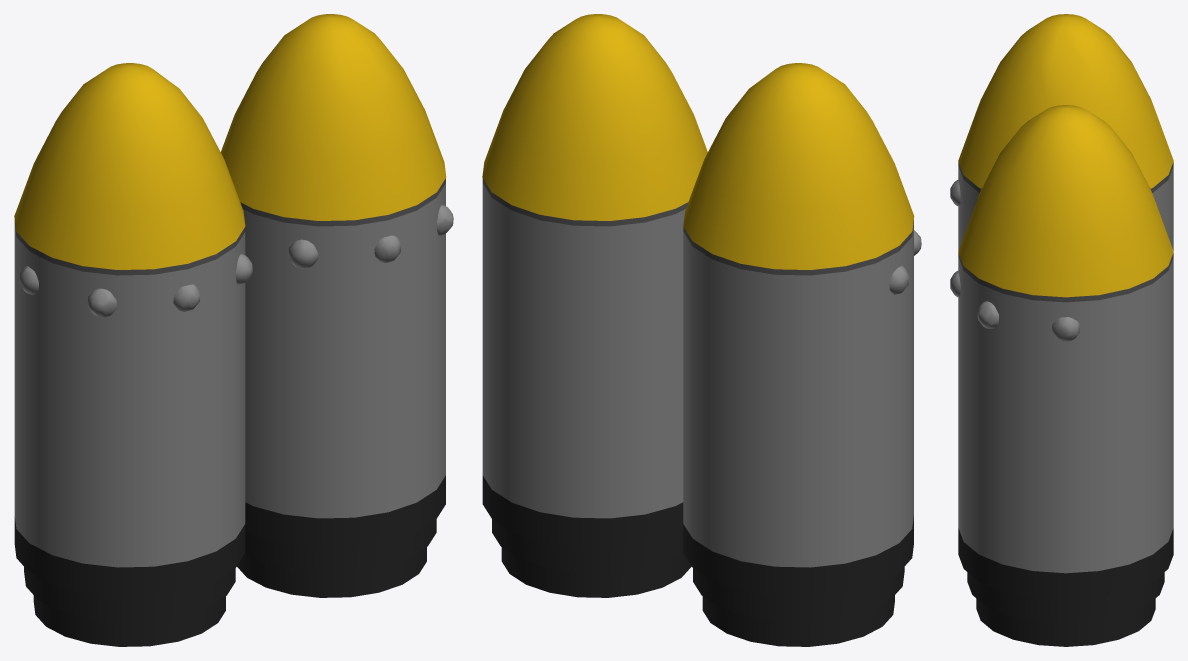
Rendered from jetpack.obj.
The picture shows the model from 3 angles, left to right: view 1: azimuth 30°, elevation 25°; view 2: azimuth 150°, elevation 25°; view 3: azimuth 270°, elevation 25°; orthographic projection. The views are drawn at different scales.
Parts seen in each view (by area): view 1: body2, body3, up1, up2, base3, base7, base2, base6, base1, base5, base4, base8 (+2 smaller); view 2: body2, body3, up1, up2, base3, base7, base2, base6, base1, base5, base4, base8; view 3: body3, up2, up1, base7, base6, base5, body2, base8, pSphere8, pSphere5.
Part boxes in pixels (bbox=[...]): body2: bbox=[14, 224, 245, 567]; body3: bbox=[243, 183, 445, 518]; up1: bbox=[14, 63, 245, 269]; up2: bbox=[220, 14, 446, 220]; base3: bbox=[14, 516, 245, 596]; base7: bbox=[245, 475, 445, 547]; base2: bbox=[24, 567, 235, 621]; base6: bbox=[245, 519, 436, 572]; base1: bbox=[33, 595, 225, 646]; base5: bbox=[237, 547, 426, 597]; base4: bbox=[14, 220, 245, 275]; base8: bbox=[240, 178, 445, 226]; body2: bbox=[683, 224, 913, 567]; body3: bbox=[482, 183, 685, 518]; up1: bbox=[683, 63, 914, 269]; up2: bbox=[482, 14, 707, 220]; base3: bbox=[683, 516, 913, 596]; base7: bbox=[482, 475, 683, 547]; base2: bbox=[693, 567, 904, 621]; base6: bbox=[492, 519, 683, 572]; base1: bbox=[702, 595, 894, 646]; base5: bbox=[501, 547, 691, 597]; base4: bbox=[683, 220, 913, 275]; base8: bbox=[482, 178, 688, 226]; body3: bbox=[958, 257, 1173, 573]; up2: bbox=[958, 105, 1173, 297]; up1: bbox=[958, 14, 1173, 188]; base7: bbox=[958, 528, 1173, 600]; base6: bbox=[967, 572, 1164, 623]; base5: bbox=[976, 598, 1155, 646]; body2: bbox=[958, 166, 1173, 250]; base8: bbox=[958, 253, 1173, 302]; pSphere8: bbox=[1052, 317, 1079, 341]; pSphere5: bbox=[977, 301, 998, 328].
Size of the model in its own units: 0.7476 by 0.923 by 0.3741.
